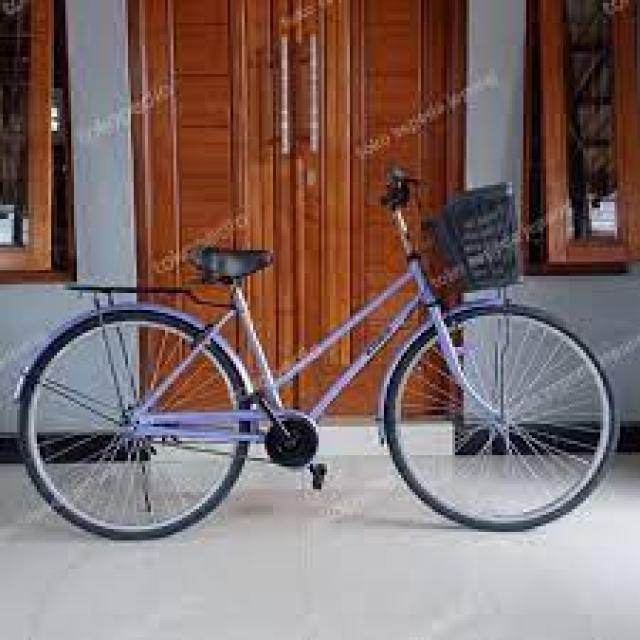bicycle: (22, 176, 616, 544)
